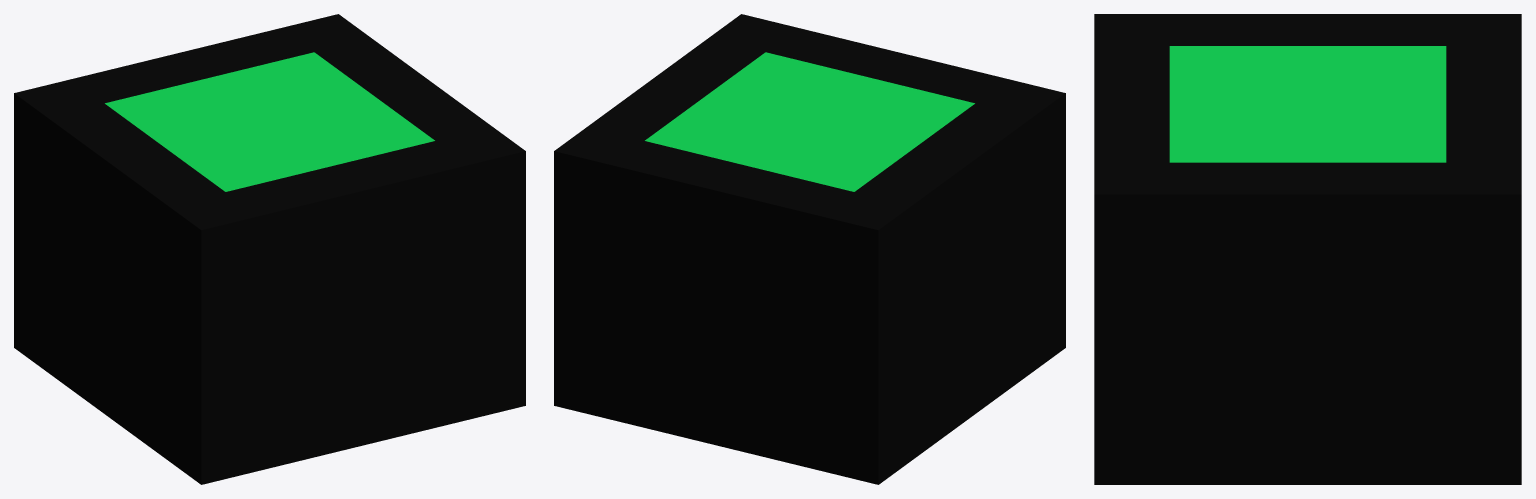
The model's file is malachite_ore.dae.
3 views of the same model, side by side, from view 1: azimuth 30°, elevation 25°; view 2: azimuth 150°, elevation 25°; view 3: azimuth 270°, elevation 25° (orthographic). The views are drawn at different scales.
Visible parts, largest first — view 1: Cube; view 2: Cube; view 3: Cube.
Part boxes in pixels (<box>): Cube: <box>14,14,525,484</box>; Cube: <box>554,14,1065,484</box>; Cube: <box>1094,14,1521,484</box>.
Size of the model in its own units: 0.1016 by 0.1016 by 0.0762.
